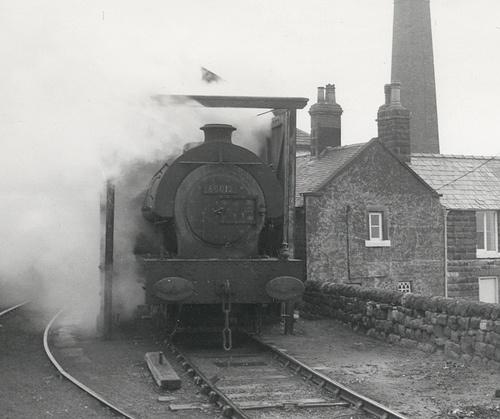train: (125, 122, 312, 340)
